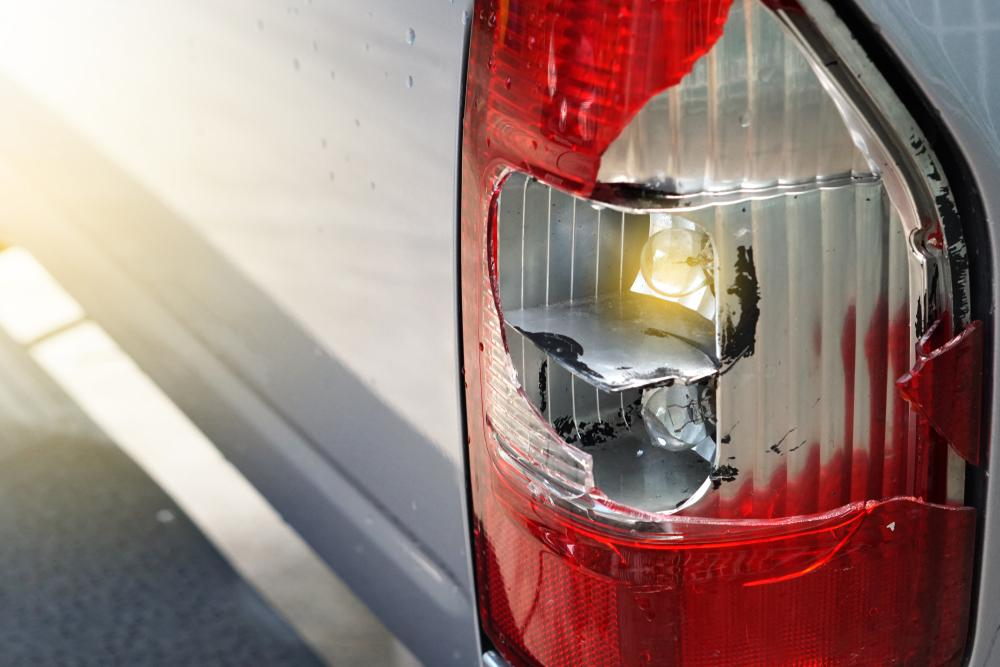lamp broken: (458, 0, 993, 667)
